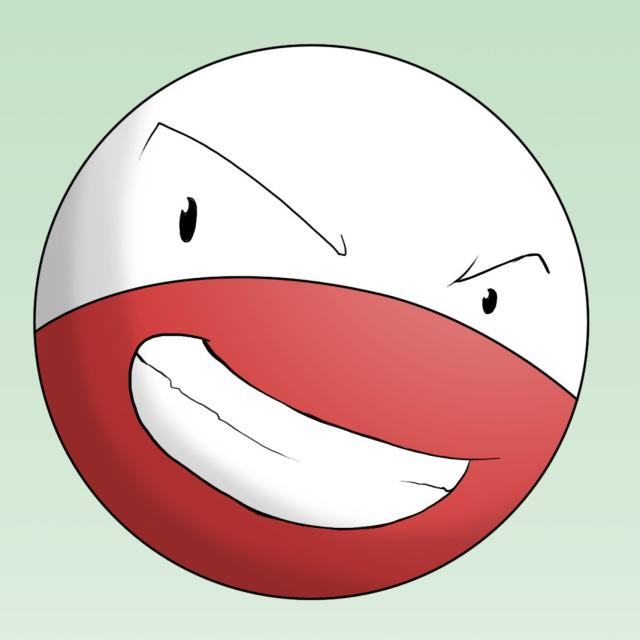Electrode: (21, 41, 600, 609)
